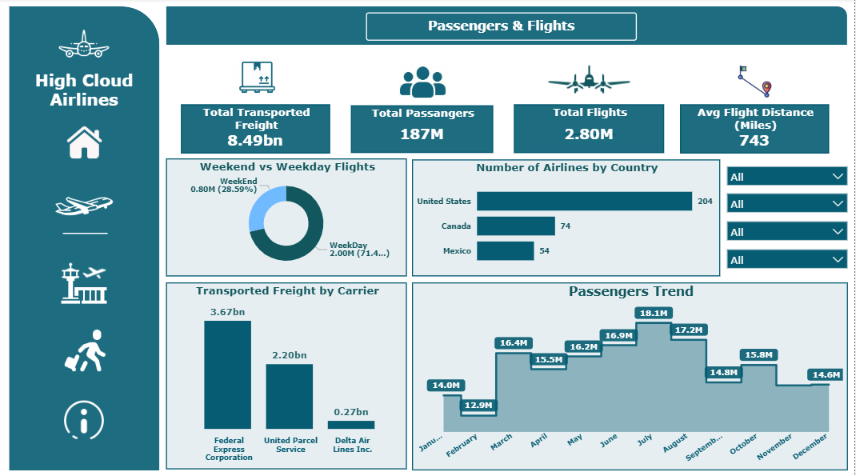

This screenshot's page, from the dashboard's own definition file:
{"tool":"powerbi","page":{"name":"Passangers & Flights","canvas":[1280,720],"ordinal":3},"visuals":[{"type":"card","title":"Total Transported Freight","fields":{"Values":["KPI_Measures.Total_Transported_Freight"]},"box":[271.8,158.5,223.4,74],"z":0},{"type":"shape","box":[248.9,12.2,1020,57.8],"z":1000},{"type":"textbox","box":[547.8,20.8,406,42.8],"z":2000},{"type":"card","title":"Avg Flight Distance (Miles)","fields":{"Values":["KPI_Measures.Average_Flight_Distance"]},"box":[1017.6,158.5,223.4,74],"z":3000},{"type":"donutChart","title":"Weekend vs Weekday Flights","fields":{"Y":["KPI_Measures.Total_Flights"],"Category":["CalanderTable.Weekend_vs_Weekday"]},"box":[248.6,239.6,360.9,176.7],"z":4000},{"type":"areaChart","title":"Passengers Trend","fields":{"Category":["CalanderTable.Date.Variation.Date Hierarchy.Year","CalanderTable.Date.Variation.Date Hierarchy.Quarter","CalanderTable.Date.Variation.Date Hierarchy.Month","CalanderTable.Date.Variation.Date Hierarchy.Day"],"Y":["KPI_Measures.Total_Passangers"]},"box":[616.9,425.3,652.9,281.5],"z":5000},{"type":"slicer","fields":{"Values":["CalanderTable.Date.Variation.Date Hierarchy.Year"]},"box":[1077.5,324.1,200.8,51.3],"z":6000},{"type":"slicer","title":"Country","fields":{"Values":["Fact_Airline_Data.Origin Country"]},"box":[1077.5,241,200.8,51.3],"z":7000},{"type":"slicer","fields":{"Values":["Fact_Airline_Data.Carrier Name"]},"box":[1077.5,281.8,200.8,51.3],"z":8000},{"type":"slicer","fields":{"Values":["CalanderTable.Date.Variation.Date Hierarchy.Month"]},"box":[1077.5,364.8,200.8,51.3],"z":9000},{"type":"shape","box":[13.6,12.2,225.4,695.1],"z":10000},{"type":"image","box":[86.3,182.9,79.5,70.1],"z":11000},{"type":"image","box":[59.3,275.9,133.4,88.9],"z":12000},{"type":"image","box":[79.5,387.8,93,75.5],"z":13000},{"type":"image","box":[80.9,490.2,91.6,75.5],"z":14000},{"type":"image","box":[91.6,598.4,68.7,66],"z":15000},{"type":"textbox","box":[13.5,103.8,225.1,78.2],"z":16000},{"type":"image","box":[33.7,32.3,186,75.5],"z":17000},{"type":"image","box":[781.1,80,203.8,125.3],"z":18000},{"type":"card","title":"Total Flights","fields":{"Values":["KPI_Measures.Total_Flights"]},"box":[769,158.5,225,72.5],"z":19000},{"type":"image","box":[291.4,89.1,185.7,54.4],"z":20000},{"type":"image","box":[577.2,98.1,113.2,51.3],"z":21000},{"type":"card","title":"Total Passangers","fields":{"Values":["KPI_Measures.Total_Flights"]},"box":[525.9,160,212.9,71],"z":22000},{"type":"image","box":[1070.4,93.6,119.3,60.4],"z":23000},{"type":"barChart","title":"Number of Airlines by Country","fields":{"Category":["Fact_Airline_Data.Origin Country"],"Y":["KPI_Measures.Total_Airlines"]},"box":[616.9,241.1,461.2,175.2],"z":24000},{"type":"columnChart","title":"Transported Freight by Carrier","fields":{"Category":["Fact_Airline_Data.Carrier Name"],"Y":["KPI_Measures.Total_Transported_Freight"]},"box":[248.6,425.3,360.9,280],"z":25000}]}

Visuals, with their boxes in screenshot pixels (x1, y1, x2, y2), scaled from the page's 1280x720 canvas onto the 856x476 screenshot:
"Total Transported Freight" card: BBox(182, 105, 331, 154)
shape: BBox(166, 8, 849, 46)
textbox: BBox(366, 14, 638, 42)
"Avg Flight Distance (Miles)" card: BBox(681, 105, 830, 154)
"Weekend vs Weekday Flights" donutChart: BBox(166, 158, 408, 275)
"Passengers Trend" areaChart: BBox(413, 281, 849, 467)
slicer - CalanderTable.Date.Variation.Date Hierarchy.Year: BBox(721, 214, 855, 248)
"Country" slicer: BBox(721, 159, 855, 193)
slicer - Fact_Airline_Data.Carrier Name: BBox(721, 186, 855, 220)
slicer - CalanderTable.Date.Variation.Date Hierarchy.Month: BBox(721, 241, 855, 275)
shape: BBox(9, 8, 160, 468)
image: BBox(58, 121, 111, 167)
image: BBox(40, 182, 129, 241)
image: BBox(53, 256, 115, 306)
image: BBox(54, 324, 115, 374)
image: BBox(61, 396, 107, 439)
textbox: BBox(9, 69, 160, 120)
image: BBox(23, 21, 147, 71)
image: BBox(522, 53, 659, 136)
"Total Flights" card: BBox(514, 105, 665, 153)
image: BBox(195, 59, 319, 95)
image: BBox(386, 65, 462, 99)
"Total Passangers" card: BBox(352, 106, 494, 153)
image: BBox(716, 62, 796, 102)
"Number of Airlines by Country" barChart: BBox(413, 159, 721, 275)
"Transported Freight by Carrier" columnChart: BBox(166, 281, 408, 466)
